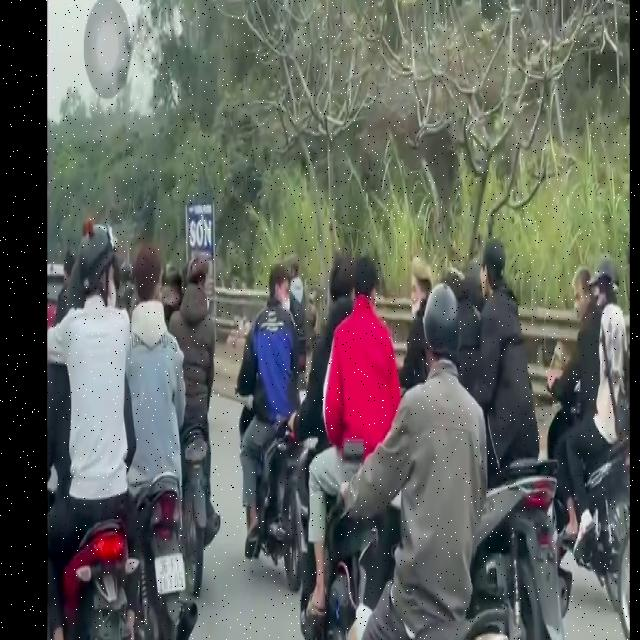helmet: (417, 283, 460, 397), (76, 218, 117, 332), (592, 247, 620, 325)
no_helmet: (570, 266, 592, 325)
